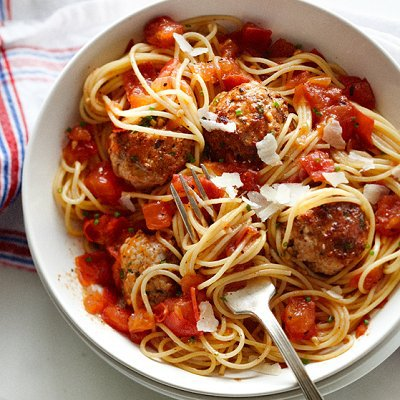meatballs: (208, 82, 281, 156), (110, 120, 192, 184), (290, 203, 368, 269), (114, 232, 172, 292)
plain spaghetti: (63, 27, 399, 361)
